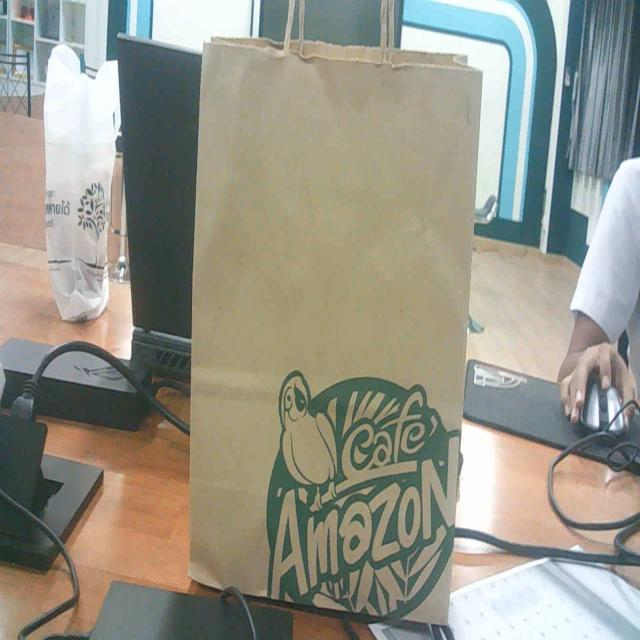bag: (189, 0, 485, 639)
